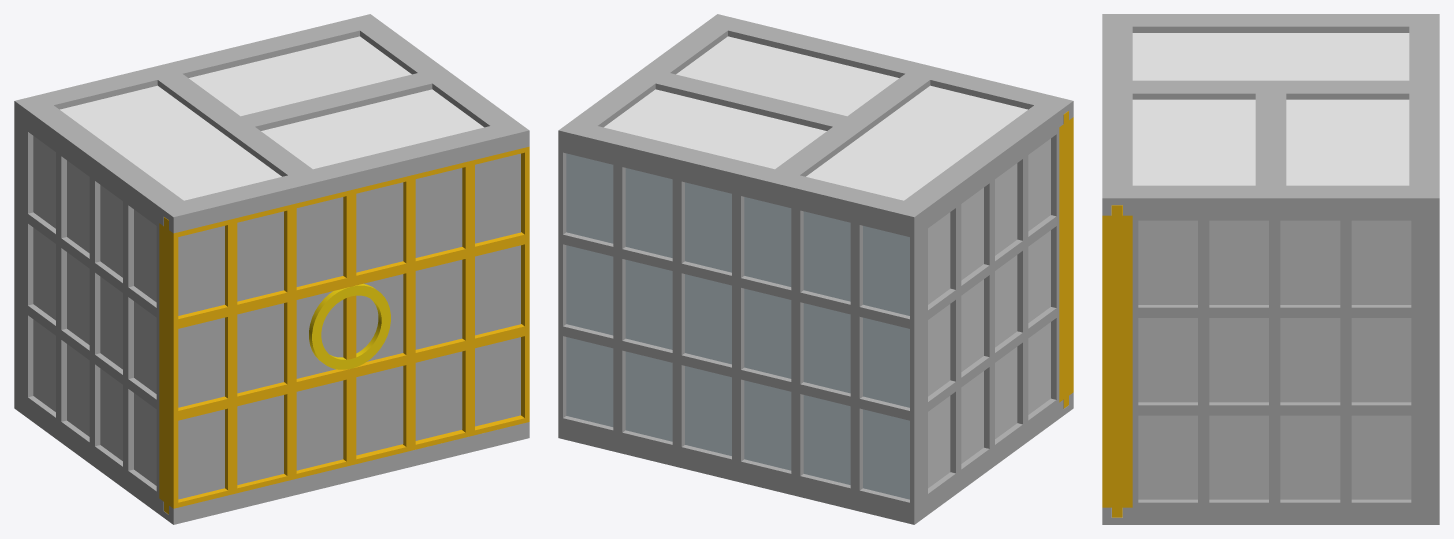
The model's file is shoji_box.gltf.
3 renders of one model, left to right at view 1: azimuth 30°, elevation 25°; view 2: azimuth 150°, elevation 25°; view 3: azimuth 270°, elevation 25°, orthographic. The views are drawn at different scales.
Visible parts, largest first — view 1: 65481ab20629a77206b4739e.005, 65481ab20629a77206b4739e.001, 65481ab20629a77206b4739e.006, 65481ab20629a77206b4739e.011, 65481ab20629a77206b4739e.004; view 2: 65481ab20629a77206b4739e.005, 65481ab20629a77206b4739e.009, 65481ab20629a77206b4739e.011, 65481ab20629a77206b4739e.004, 65481ab20629a77206b4739e.001; view 3: 65481ab20629a77206b4739e.005, 65481ab20629a77206b4739e.010, 65481ab20629a77206b4739e.011, 65481ab20629a77206b4739e.006.
Boxes of the visible parts, x1,y1,x2,y2 form: 65481ab20629a77206b4739e.005: (14,14,529,524); 65481ab20629a77206b4739e.001: (159,190,351,514); 65481ab20629a77206b4739e.006: (351,146,529,464); 65481ab20629a77206b4739e.011: (60,36,483,200); 65481ab20629a77206b4739e.004: (33,136,156,485); 65481ab20629a77206b4739e.005: (558,14,1073,524); 65481ab20629a77206b4739e.009: (566,153,909,499); 65481ab20629a77206b4739e.011: (604,36,1027,200); 65481ab20629a77206b4739e.004: (928,138,1050,488); 65481ab20629a77206b4739e.001: (1059,111,1073,408); 65481ab20629a77206b4739e.005: (1102,14,1439,524); 65481ab20629a77206b4739e.010: (1138,220,1411,499); 65481ab20629a77206b4739e.011: (1132,33,1409,185); 65481ab20629a77206b4739e.006: (1102,205,1132,517).
Bounding box in the file's own units: 0.115 × 0.095 × 0.089.
